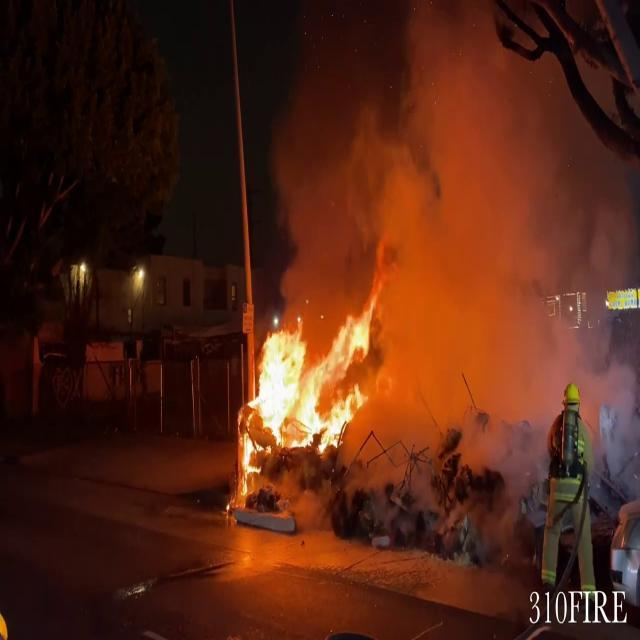Fire: (238, 276, 384, 490)
Smoke: (352, 2, 640, 482)
